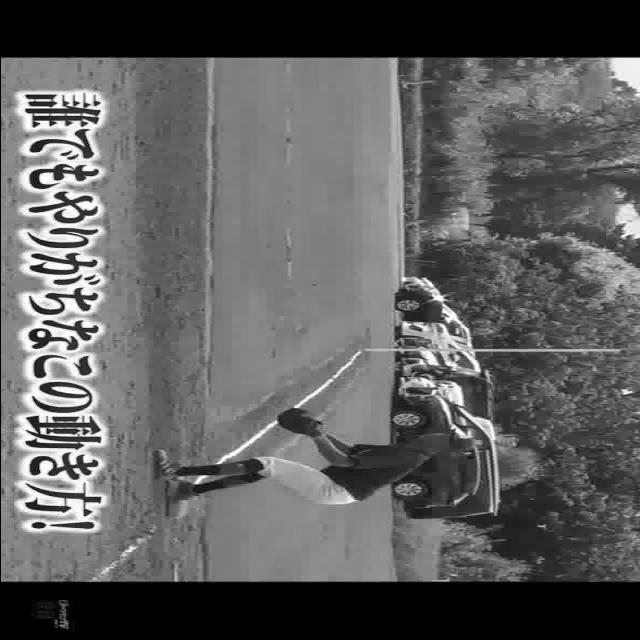base: (163, 474, 186, 517)
baseball_glove: (272, 406, 328, 438)
shoe: (150, 450, 181, 480), (173, 474, 197, 504)
